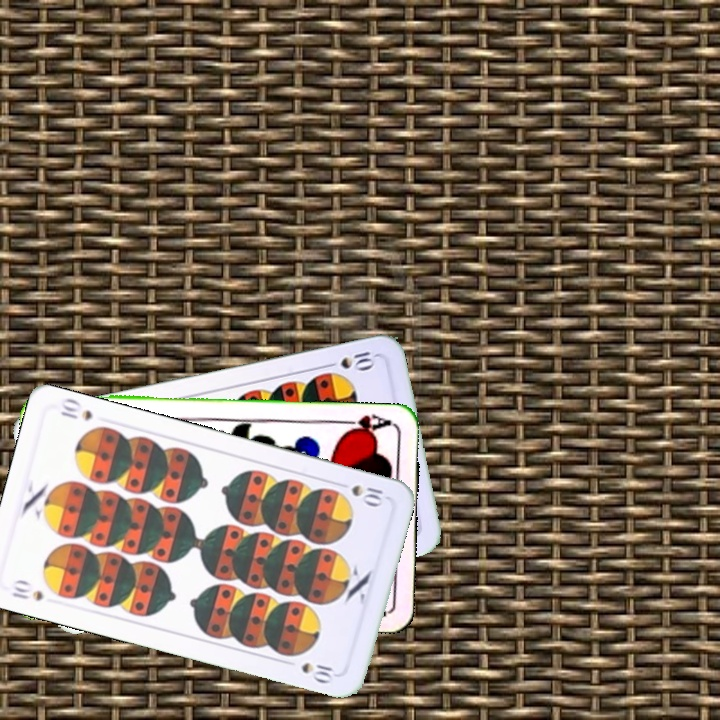HA: (334, 410, 394, 437)
S10: (331, 478, 389, 509), (320, 347, 379, 372), (8, 582, 45, 604)
